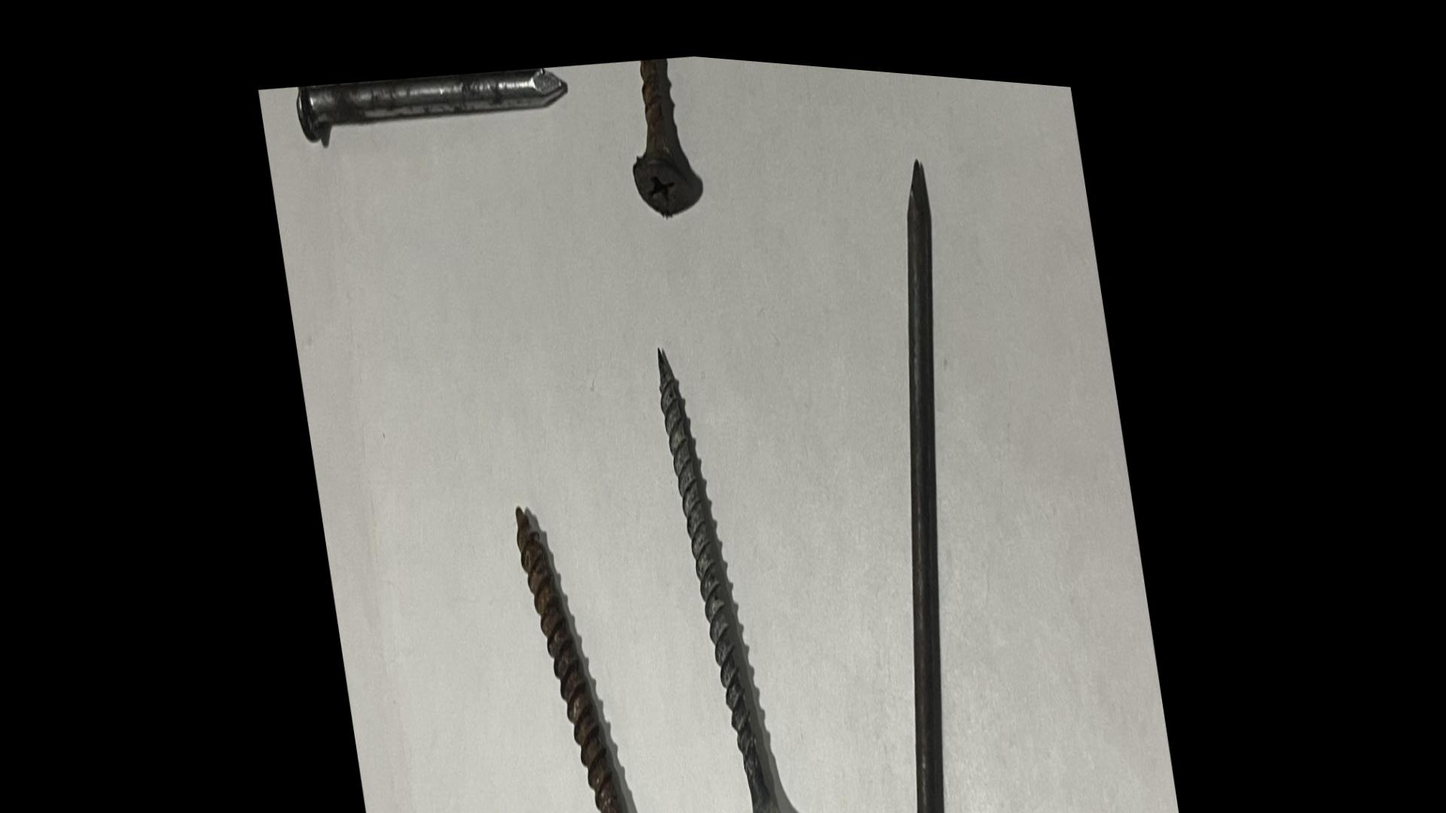nail: (761, 60, 1061, 813), (265, 36, 590, 232)
screw: (623, 296, 823, 813), (483, 411, 697, 813), (600, 38, 743, 250)
